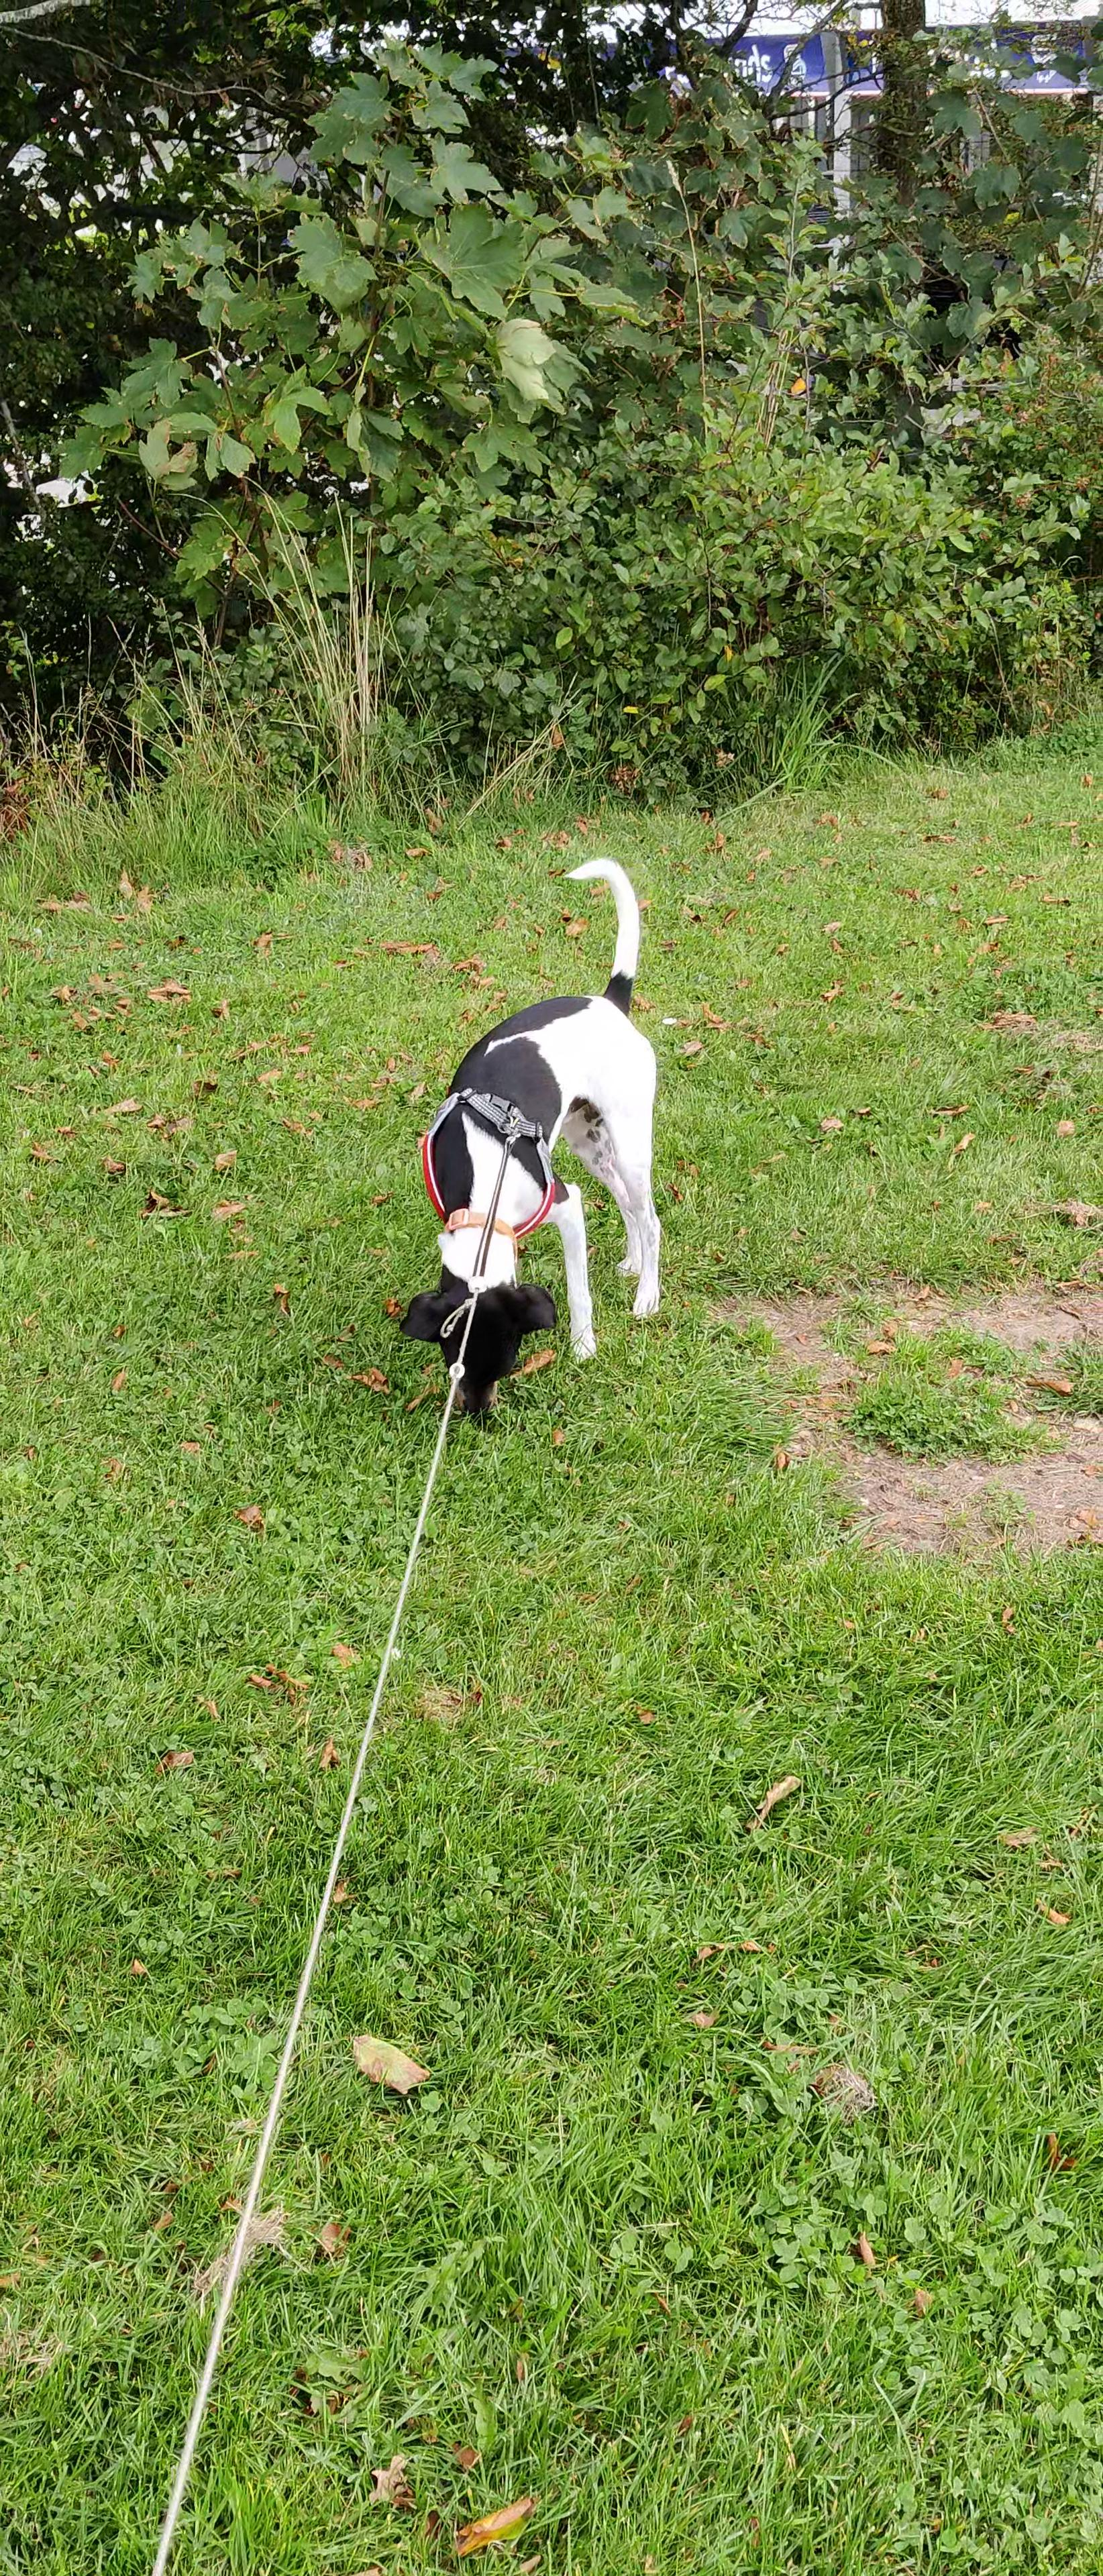Dog: (391, 854, 669, 1419)
